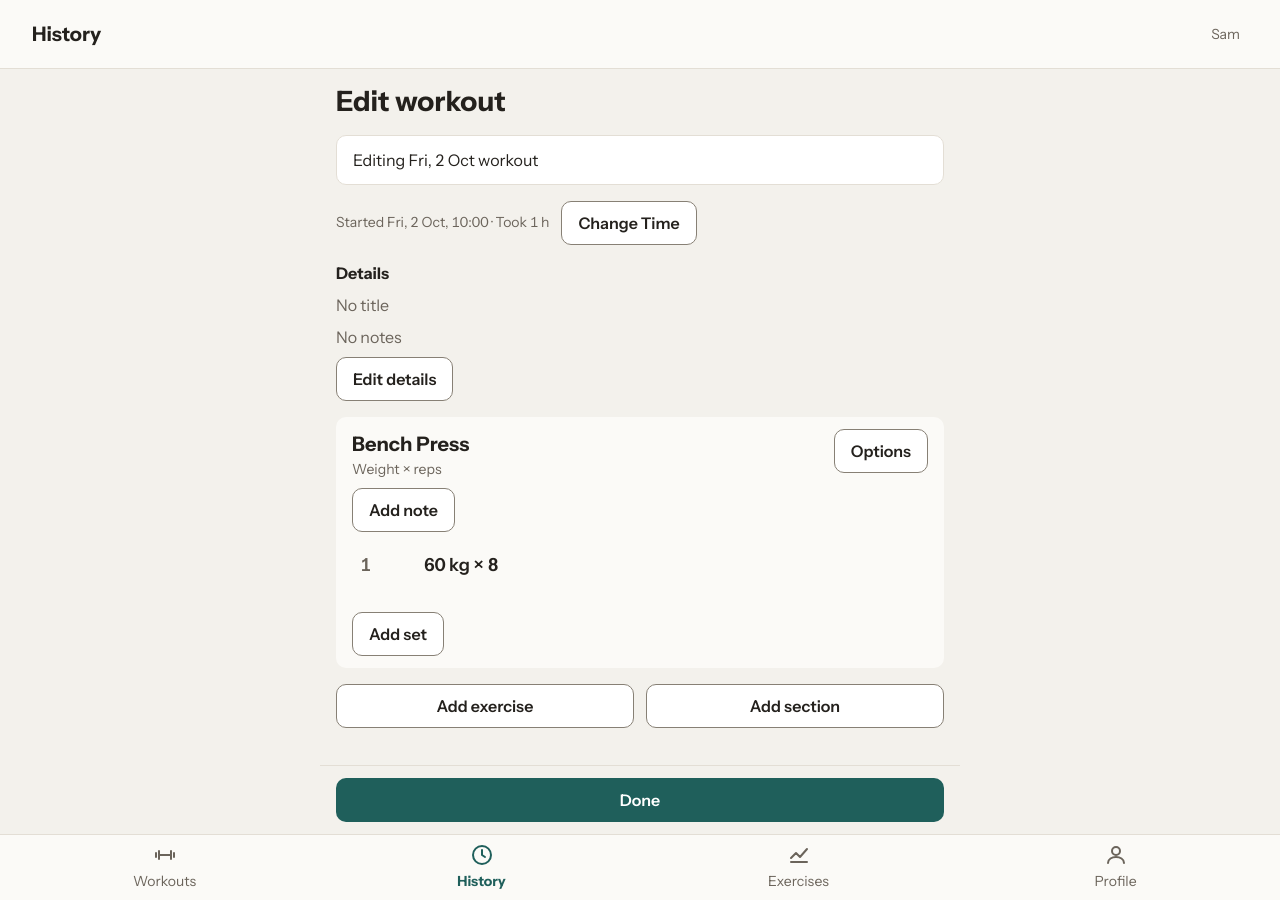
Scenario: 18.0 AC18 — 409 workout-would-be-empty opens the dialog › Keep it closes the dialog; the row is unchanged; the refusal is tracked as kept
The width and height of the screenshot is (1280, 900).
expect the heading "Edit workout" is shown: met, box [336,84,506,118]
Click the button "1 60 kg × 8". click: (461, 565)
box: [352,544,928,588]
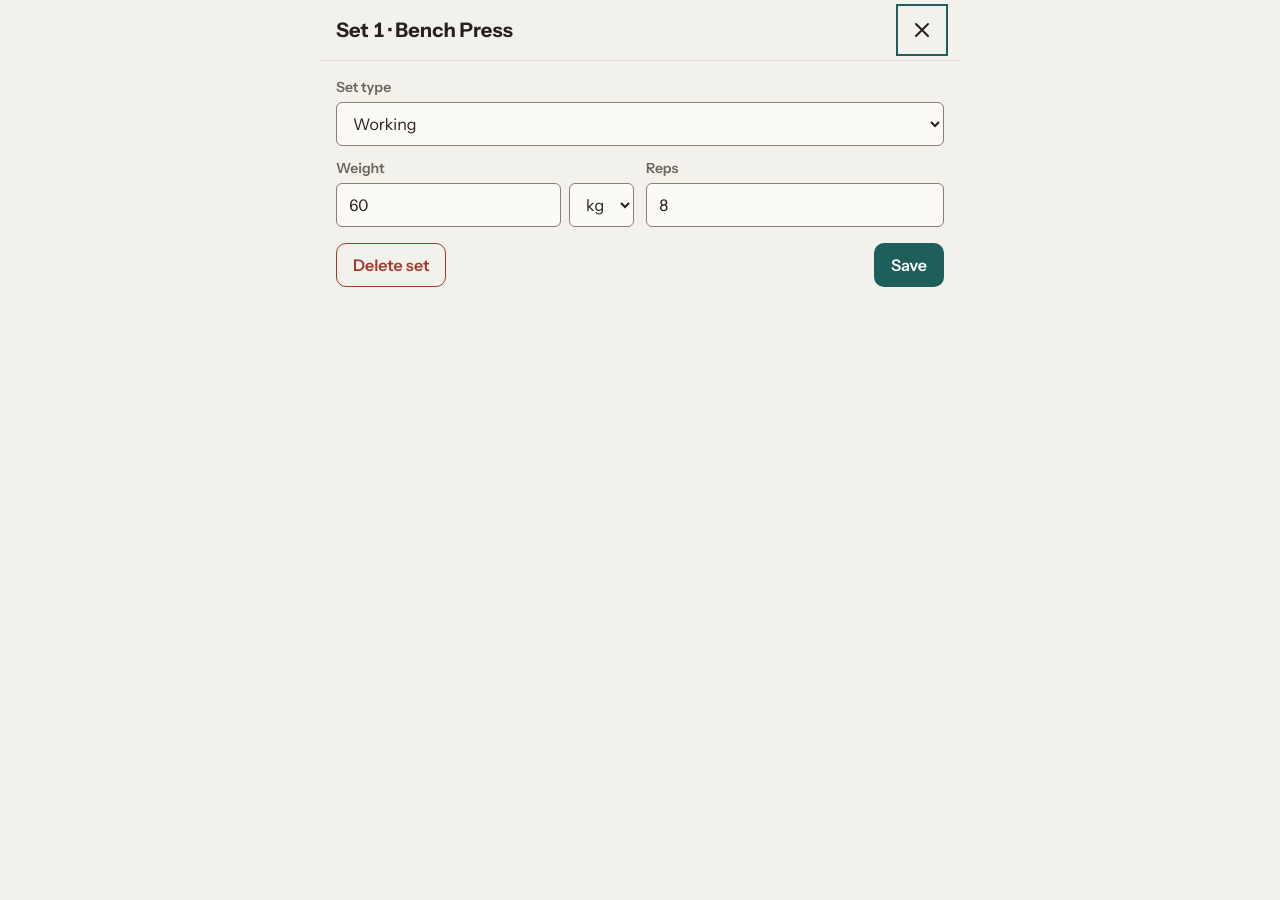
Click the button "Delete set". click: (391, 265)
box: [336,243,446,287]
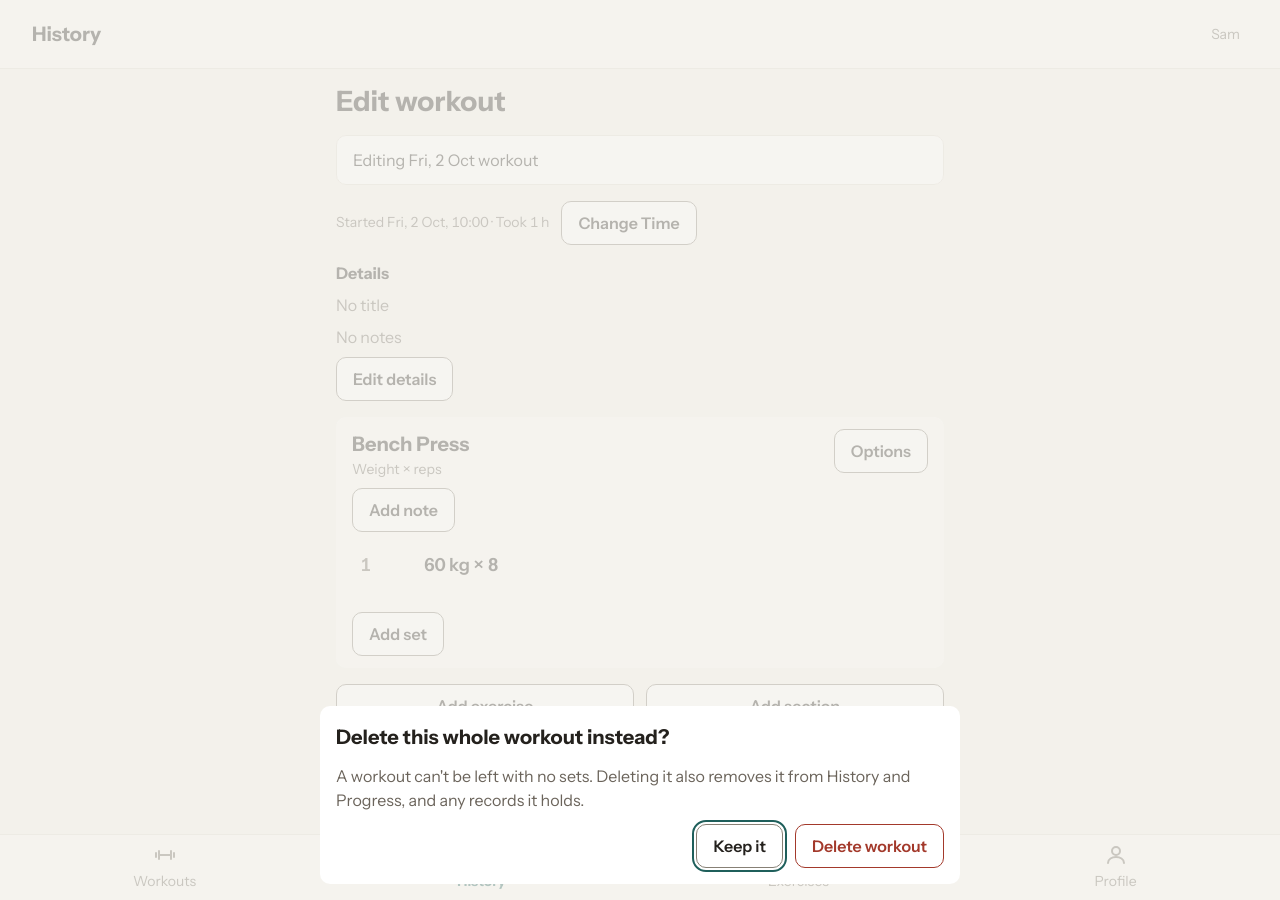
expect the dialog "Delete this whole workout instead?" is shown: met, box [320,706,960,884]
Click the button "Keep it". click: (740, 846)
box: [696,824,783,868]
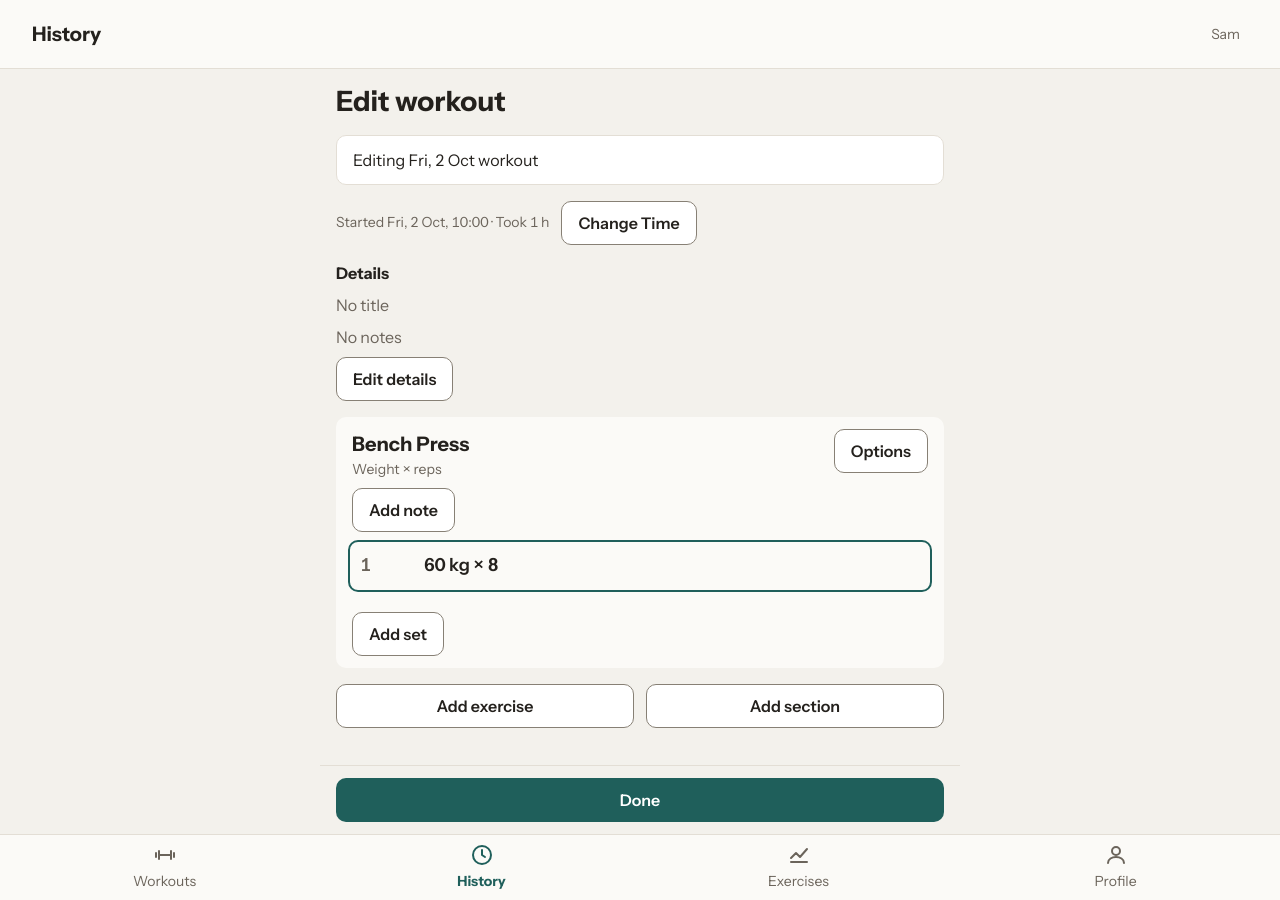
expect the button "1 60 kg × 8" is shown: met, box [352,544,928,588]
expect the heading "Delete this whole workout instead?" is gone: met
